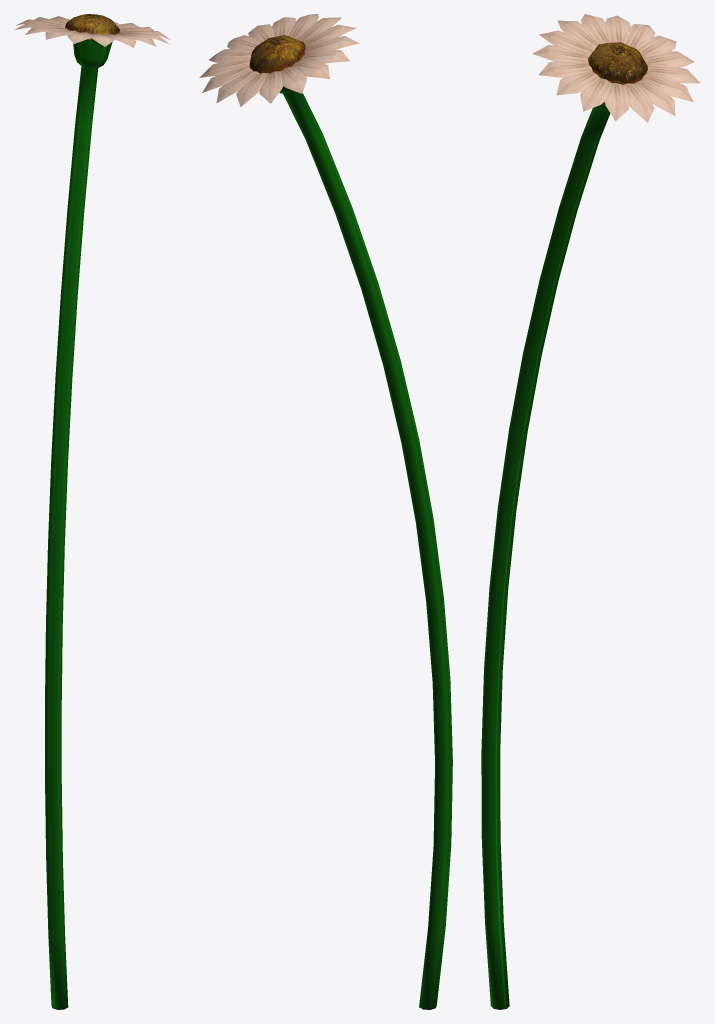
The model's file is flower_B_c02.fbx.
The picture shows the model from 3 angles, left to right: view 1: azimuth 30°, elevation 25°; view 2: azimuth 150°, elevation 25°; view 3: azimuth 270°, elevation 25°; orthographic projection. The views are drawn at different scales.
Visible parts, largest first — view 1: flowerB_c2; view 2: flowerB_c2; view 3: flowerB_c2.
Boxes of the visible parts, x1,y1,x2,y2 form: flowerB_c2: [14, 14, 169, 1009]; flowerB_c2: [199, 14, 452, 1009]; flowerB_c2: [481, 14, 700, 1009].
Bounding box in the file's own units: 4.56 × 23.68 × 4.66.
Materials: 1 (1 with a texture image).
